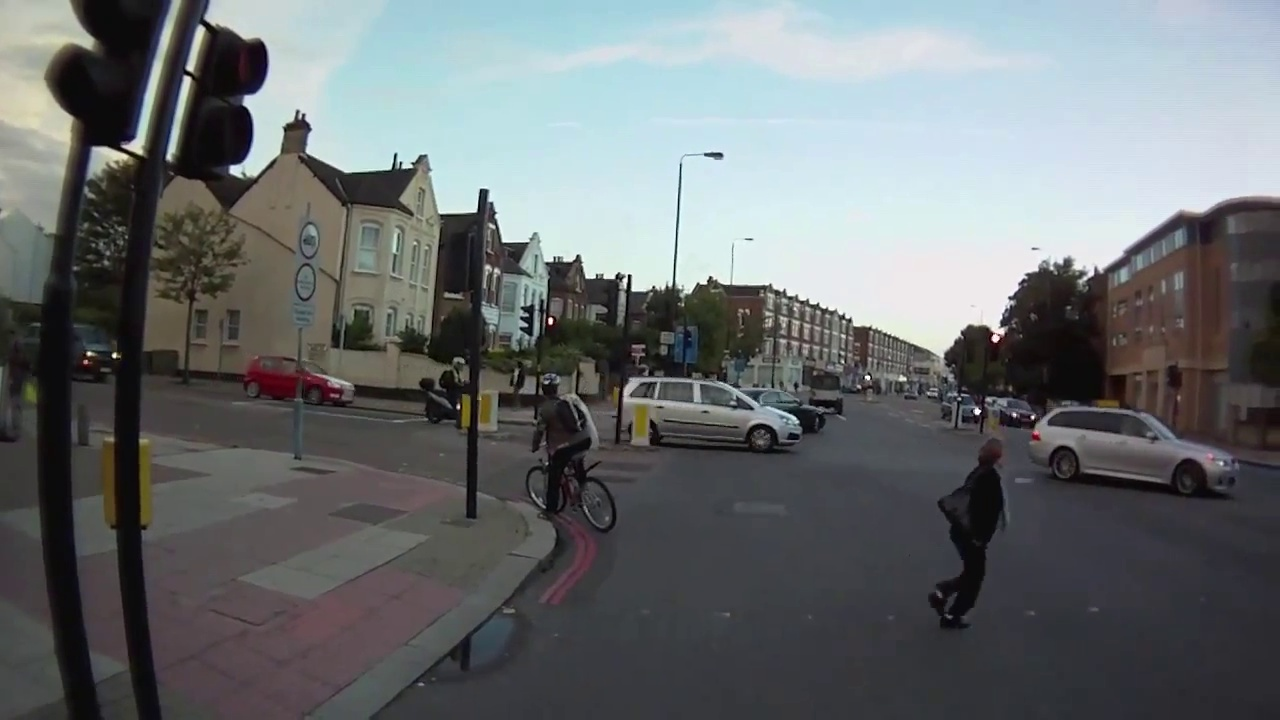cyclist_side: (522, 380, 623, 544)
